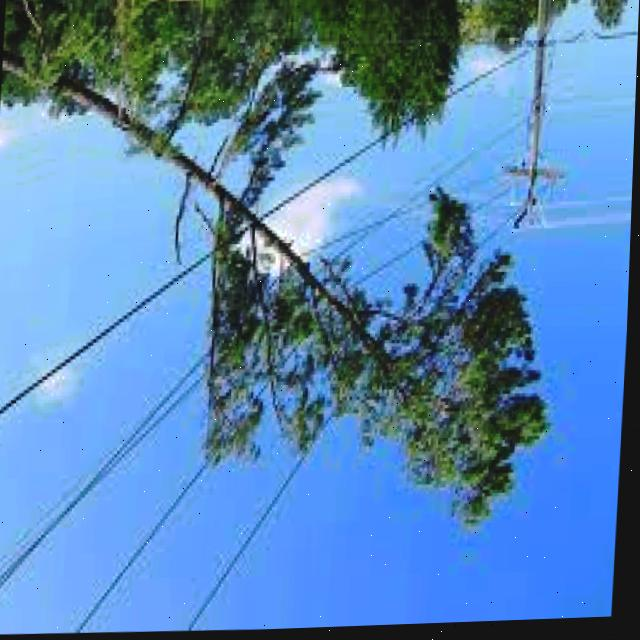obstruction: (53, 70, 549, 530)
poles: (511, 0, 557, 232)
wires: (305, 130, 633, 313), (0, 358, 206, 595), (191, 409, 341, 632), (77, 457, 218, 633), (257, 145, 376, 232)
